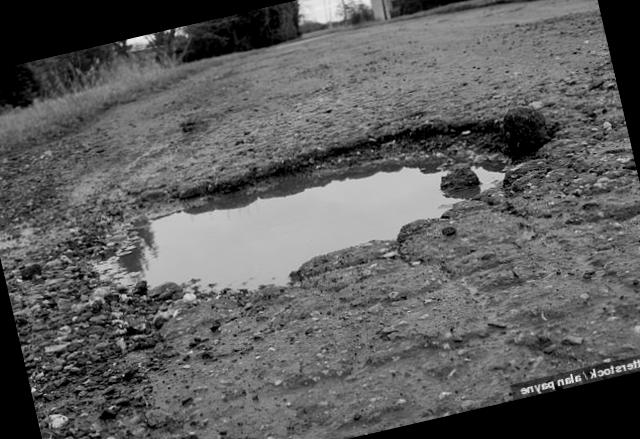Pothole: (51, 86, 584, 347)
